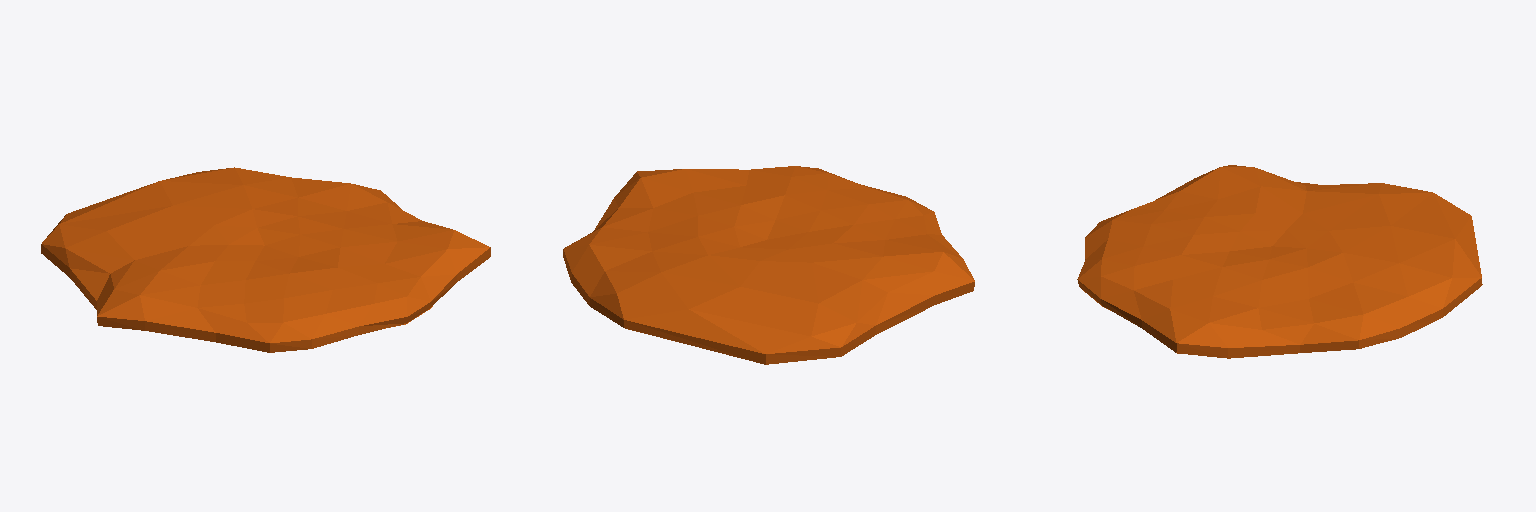
Rendered from lopoly-island.obj.
3 views of the same model, side by side, from view 1: azimuth 30°, elevation 25°; view 2: azimuth 150°, elevation 25°; view 3: azimuth 270°, elevation 25° (orthographic).
Visible parts, largest first — view 1: Icosphere; view 2: Icosphere; view 3: Icosphere.
Part boxes in pixels (left/top/right/bottom): Icosphere: left=41, top=167, right=490, bottom=352; Icosphere: left=563, top=166, right=974, bottom=364; Icosphere: left=1077, top=165, right=1482, bottom=358.
Bounding box in the file's own units: 22.85 × 2.17 × 21.9.